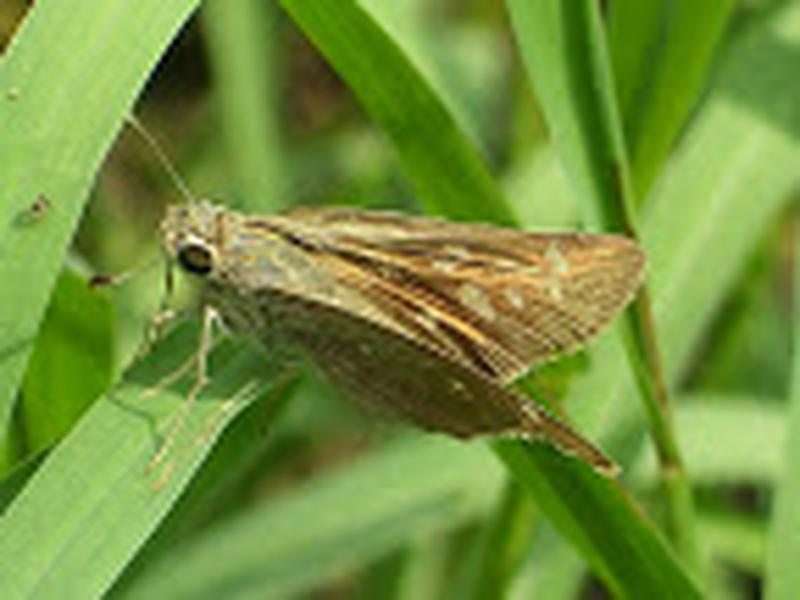Rice_horned_caterpillar: (128, 171, 671, 479)
